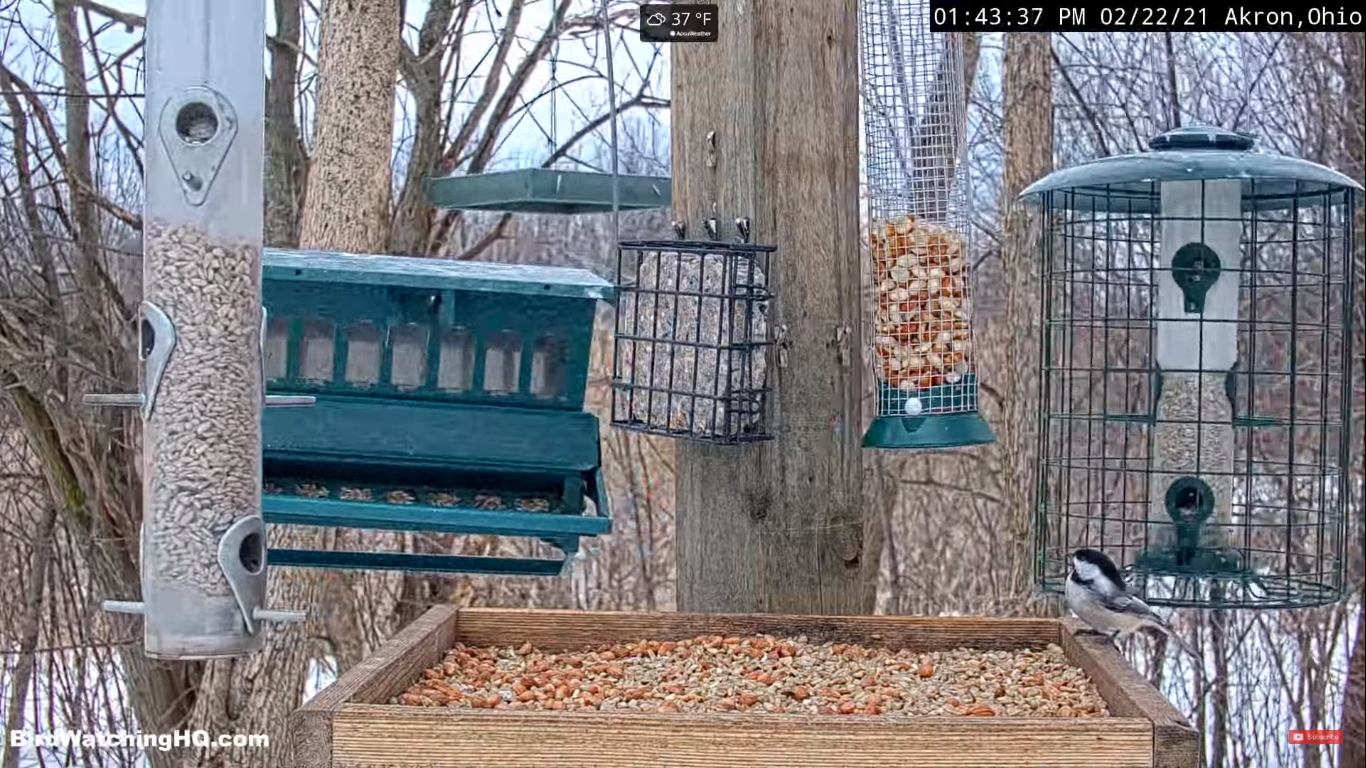bird: (1062, 547, 1190, 654)
